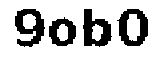0: (117, 5, 150, 51)
9: (12, 5, 43, 50)
b: (81, 5, 112, 51)
o: (46, 17, 77, 47)
